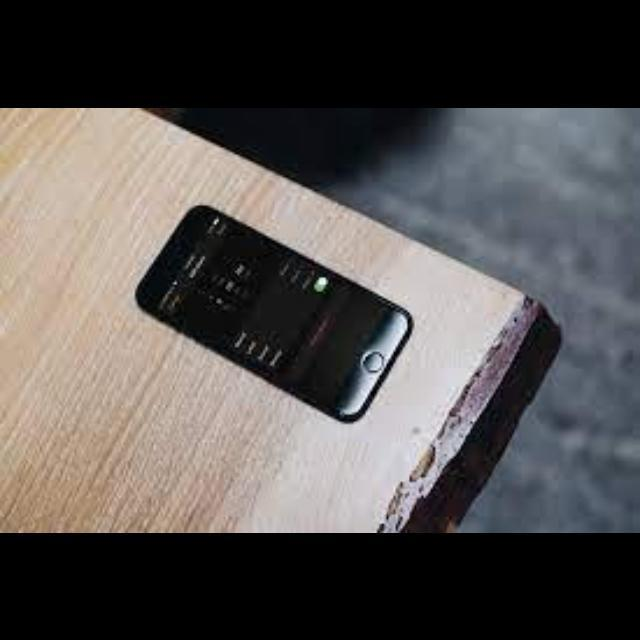PhoneUse: (132, 203, 418, 424)
